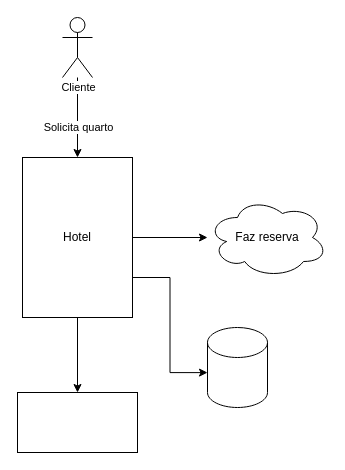
The diagram is 345 pixels wide and 470 high, and some of its shapes have lost their labels. The shapes that lost their labels are listed below. From the top down, each one's box as (x1, y1, x2, y2) in pixels, then its label:
(206, 326, 268, 408): DB Sql Server
(16, 392, 138, 452): Quartos
